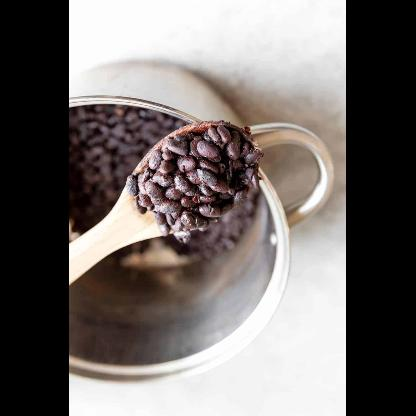black beans: (70, 106, 258, 264), (127, 124, 262, 244)
